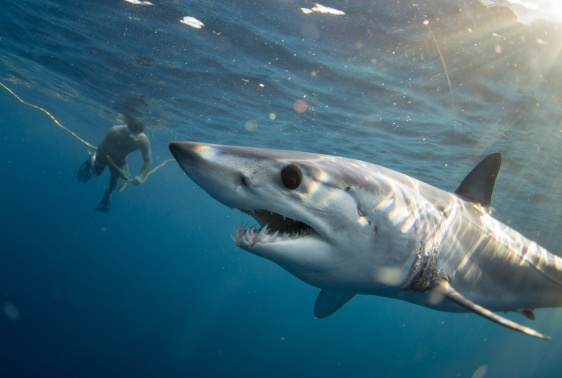Mako: (160, 129, 562, 343)
